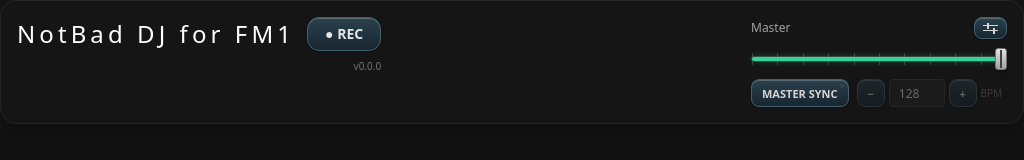
Test: CentralMeters · REC › el reloj de la grabación cuenta segundos
The image size is (1024, 160).
Click the button titled "Records the master mix; downloads as .webm when you stop" at coordinates (344, 34), box 307,17 -> 381,51
Wait 3000 ms
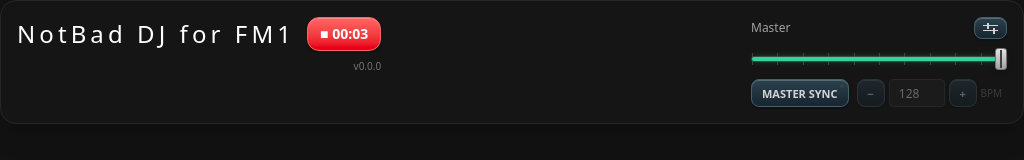
Expected: the button titled "Records the master mix; downloads as .webm when you stop" reads "■ 00:03", 307,17 -> 381,51
